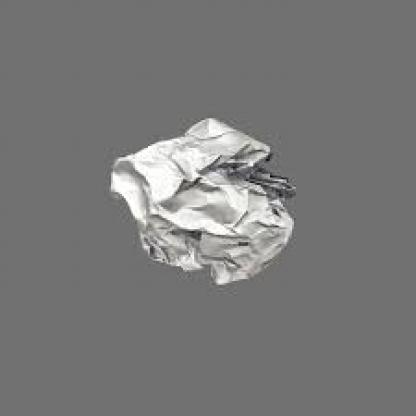paper: (107, 115, 296, 284)
